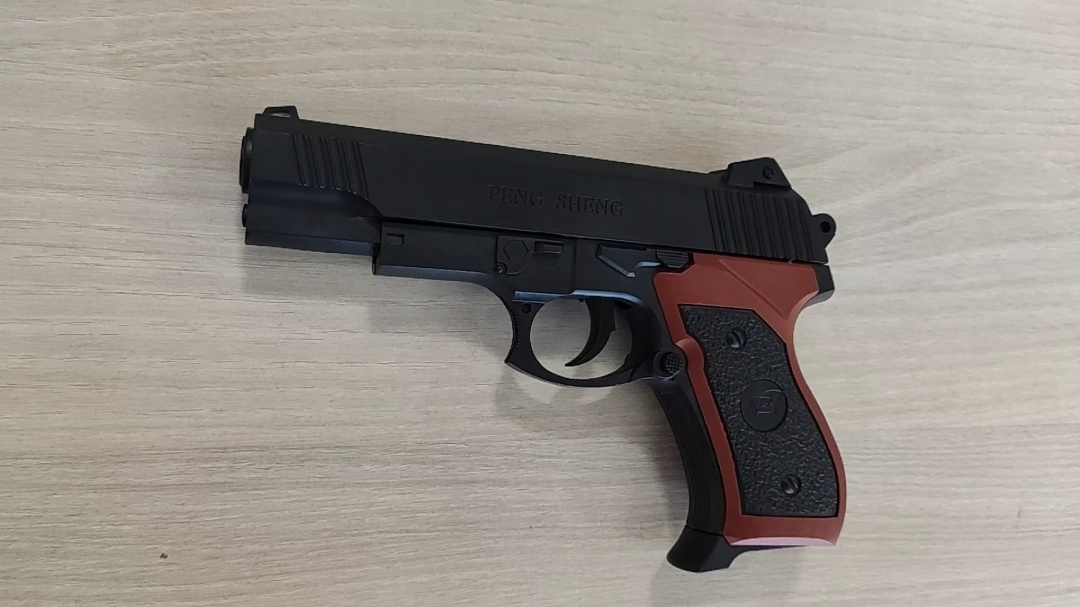gun: (369, 256, 431, 367)
